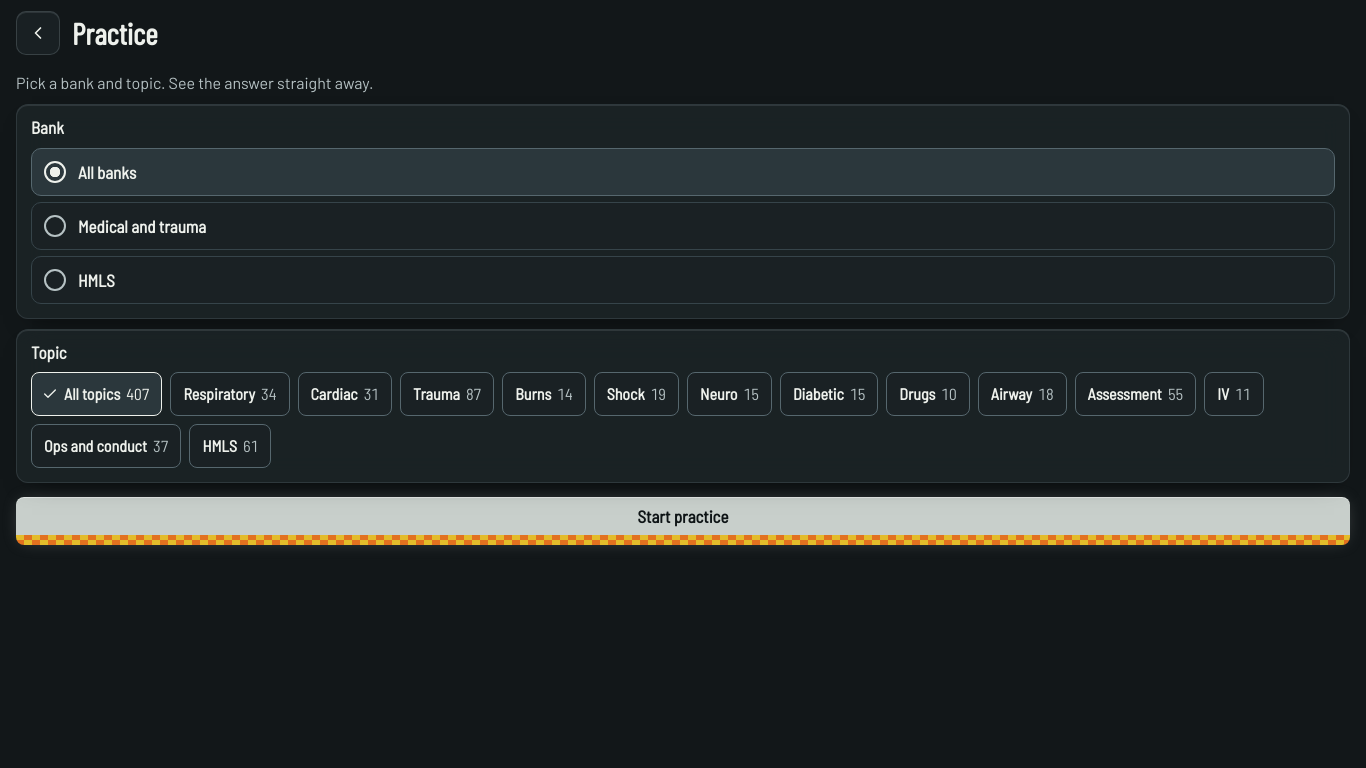
Test: Quiz setup › shows topic chips with counts for the chosen bank, one pressed, and a topic gone from the bank resets to All topics
Expected: the button "All topics 407" is shown, top-left (31, 372), bottom-right (162, 416)
Click the button "Respiratory 34" at (230, 394), box top-left (170, 372), bottom-right (290, 416)
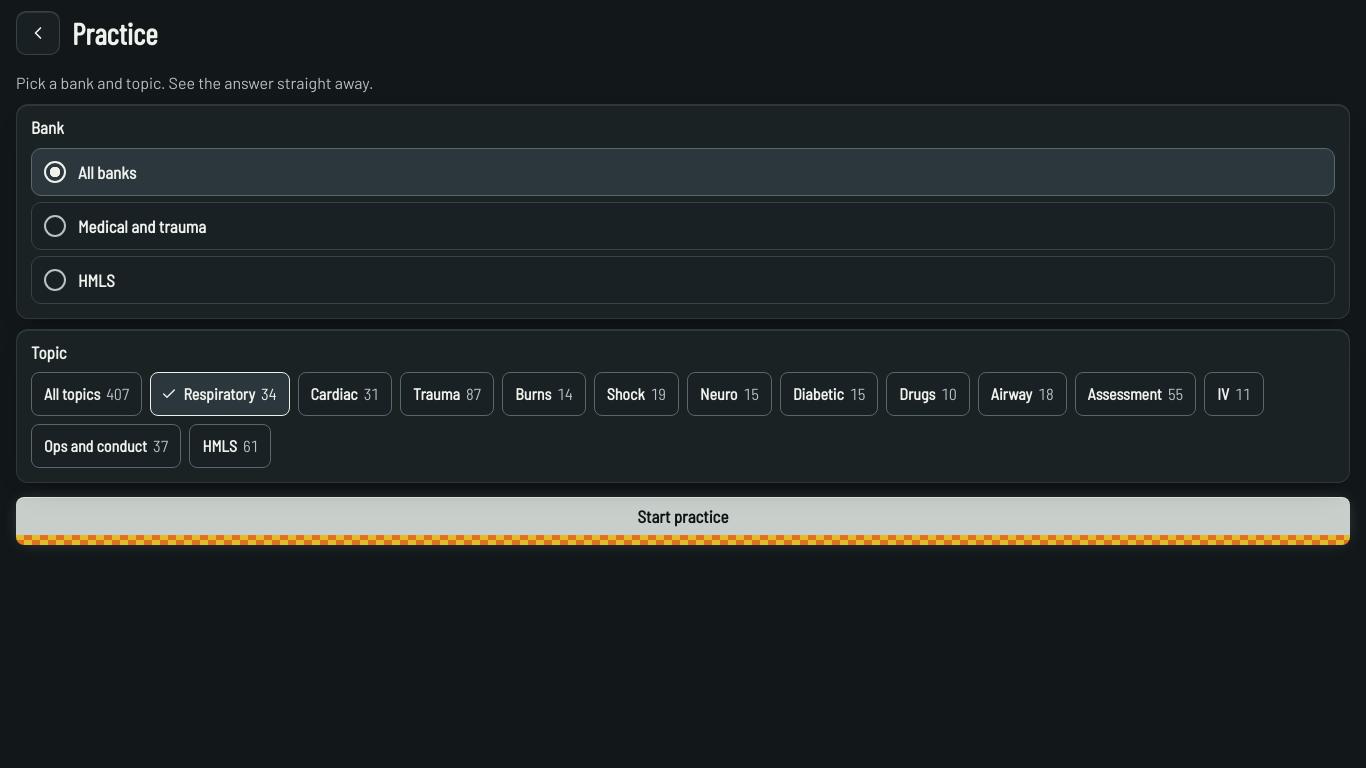
Expected: the button "Respiratory 34" is pressed, top-left (150, 372), bottom-right (290, 416)
Expected: the button "All topics 407" is not pressed, top-left (31, 372), bottom-right (142, 416)
Click the radio button labelled "HMLS" at (55, 280), box top-left (44, 269), bottom-right (66, 291)
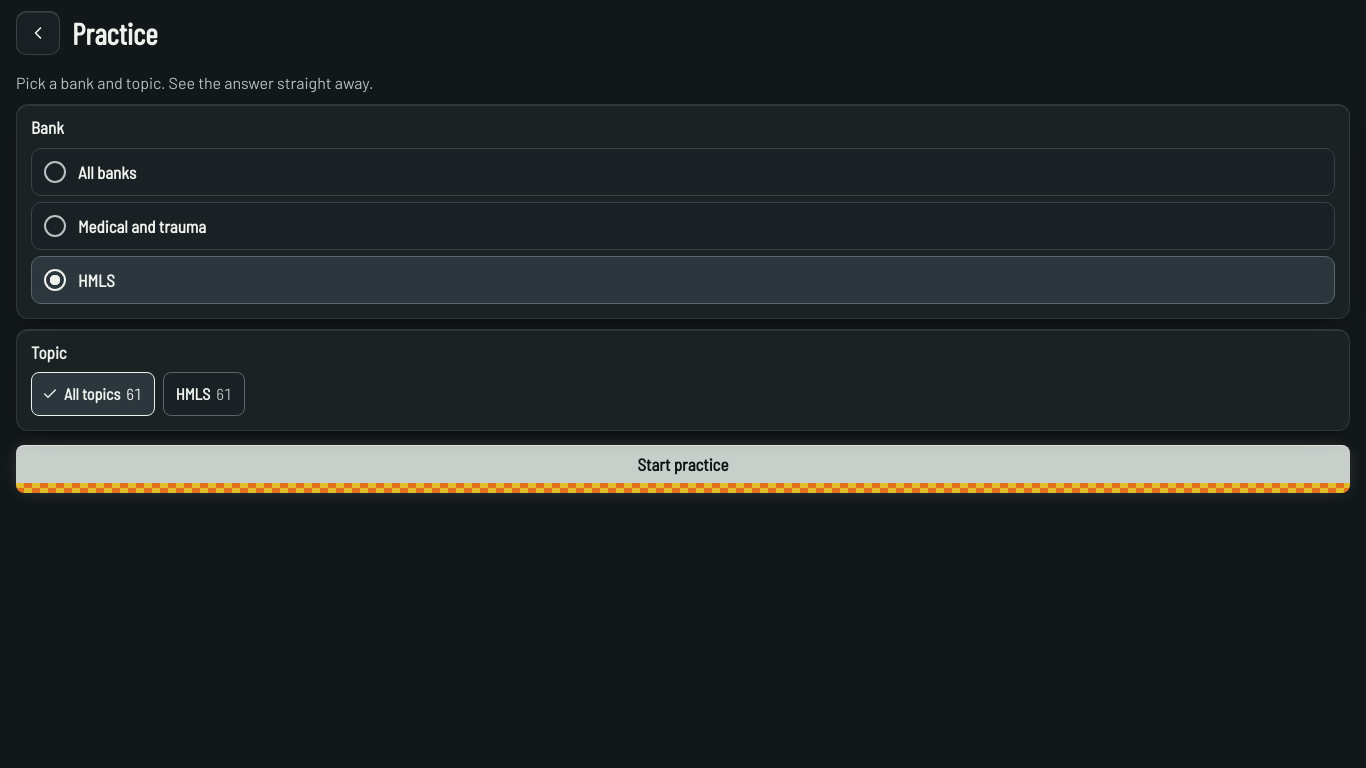
Expected: the buttons read "All topics 61", "HMLS 61", in this order, top-left (31, 372), bottom-right (155, 416); top-left (163, 372), bottom-right (245, 416)
